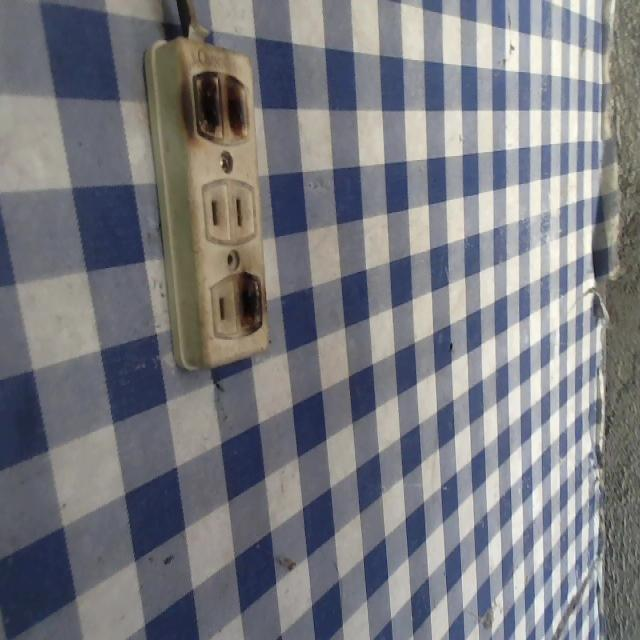-: (187, 62, 259, 154), (229, 266, 267, 338)
